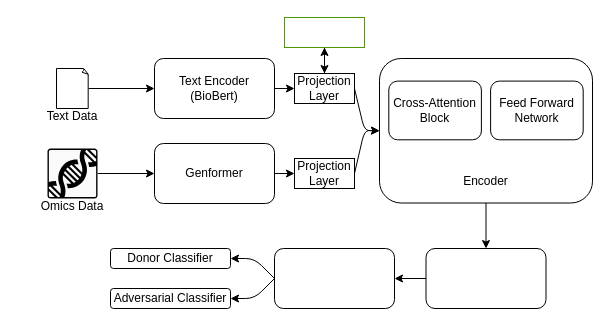
The diagram is 610 pixels wide and 326 high, and some of its shapes have lost their labels. Here are the shapes that lost their labels. From the top down, the centre of each, then its label:
At point 324,32: "Contrastive Pretraining".
At point 334,278: "Latenet Representation".
At point 485,278: "Perceiver Resampler".
